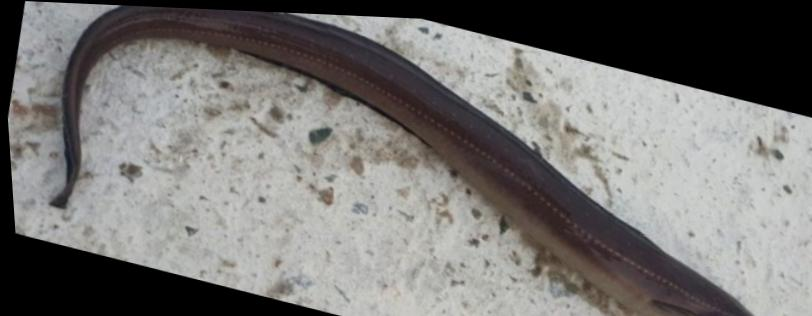fish: (49, 4, 755, 316)
